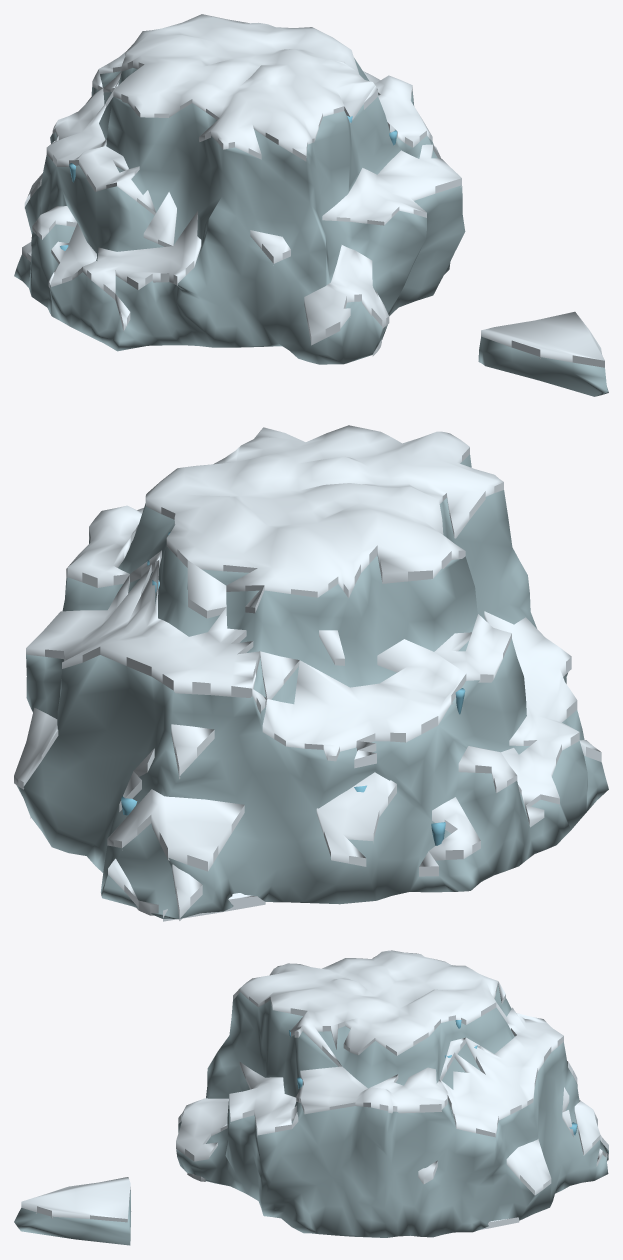
The model's file is BossRoom_IceBoulder.fbx.
3 renders of one model, top to bottom at view 1: azimuth 30°, elevation 25°; view 2: azimuth 150°, elevation 25°; view 3: azimuth 270°, elevation 25°, orthographic. The views are drawn at different scales.
Parts seen in each view (by area): view 1: BossRoom_IceBoulder_LOD0; view 2: BossRoom_IceBoulder_LOD0; view 3: BossRoom_IceBoulder_LOD0.
Boxes of the visible parts, left/top/right/bottom form: BossRoom_IceBoulder_LOD0: left=14, top=14, right=608, bottom=396; BossRoom_IceBoulder_LOD0: left=14, top=425, right=608, bottom=921; BossRoom_IceBoulder_LOD0: left=14, top=950, right=608, bottom=1245.
Size of what is drawn, in the model's own units: 3.72 by 2.18 by 6.
